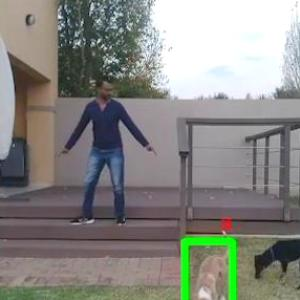land: (65, 73, 151, 234)
